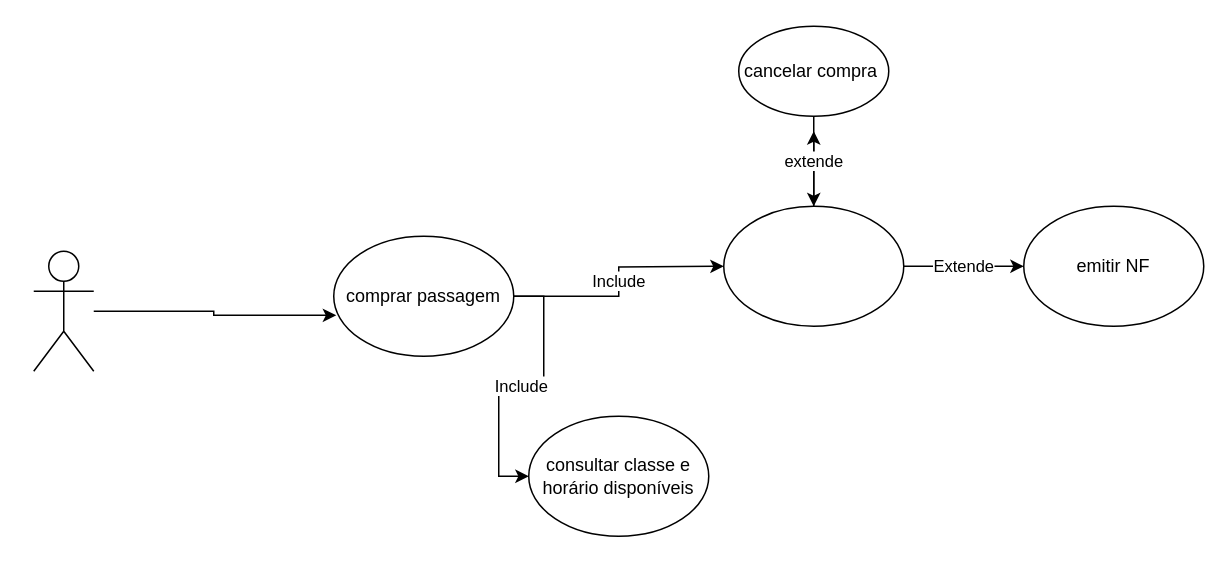
Some shapes in this 1230 by 563 pixel diagram are drawn without their labels. The shapes that lost their labels are listed below. From the top down, each one's box as (x1, y1, x2, y2) in pixels, then its label:
(722, 205, 904, 326): Informar forma de pagamento
(32, 250, 94, 371): CLIENTE
